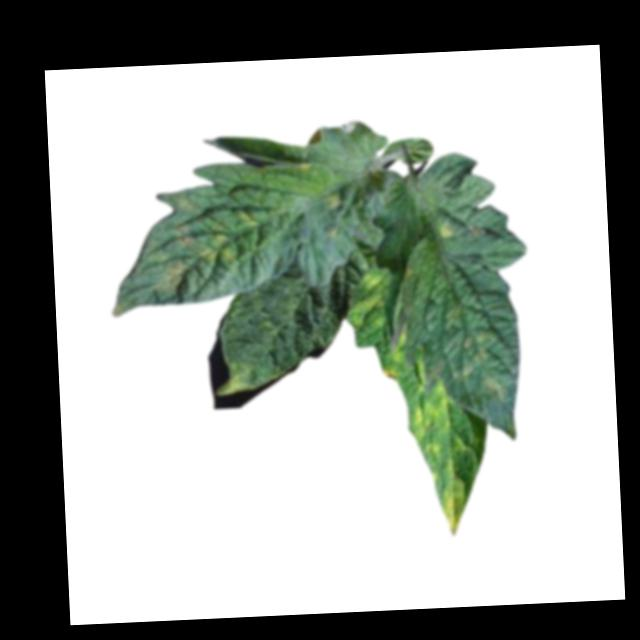Leaf_Mold: (197, 207, 267, 267), (408, 389, 456, 459), (440, 474, 471, 537), (214, 371, 258, 396), (429, 219, 453, 242), (324, 190, 343, 216), (381, 366, 402, 386)
